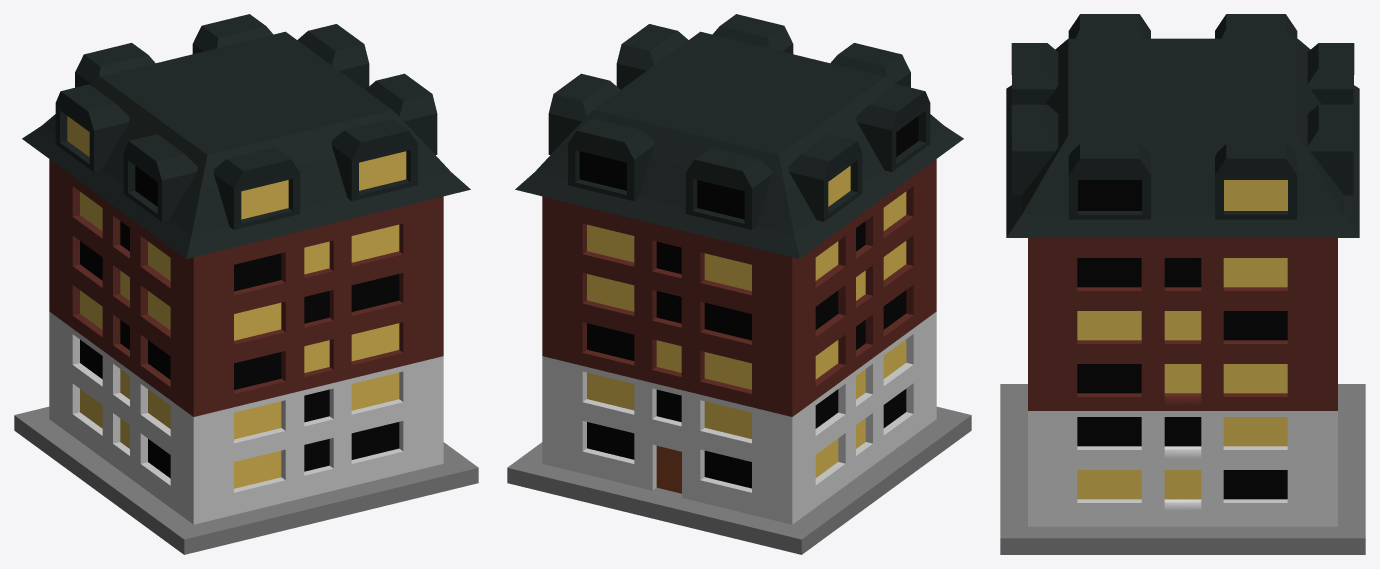
Rendered from HouseTier2.fbx.
3 renders of one model, left to right at view 1: azimuth 30°, elevation 25°; view 2: azimuth 150°, elevation 25°; view 3: azimuth 270°, elevation 25°, orthographic. The views are drawn at different scales.
Parts seen in each view (by area): view 1: Cube.036; view 2: Cube.036; view 3: Cube.036.
Part boxes in pixels (<box>): Cube.036: <box>14,14,478,554</box>; Cube.036: <box>507,14,971,554</box>; Cube.036: <box>1000,14,1365,554</box>.
Bounding box in the file's own units: 2000 × 2363 × 2000.
